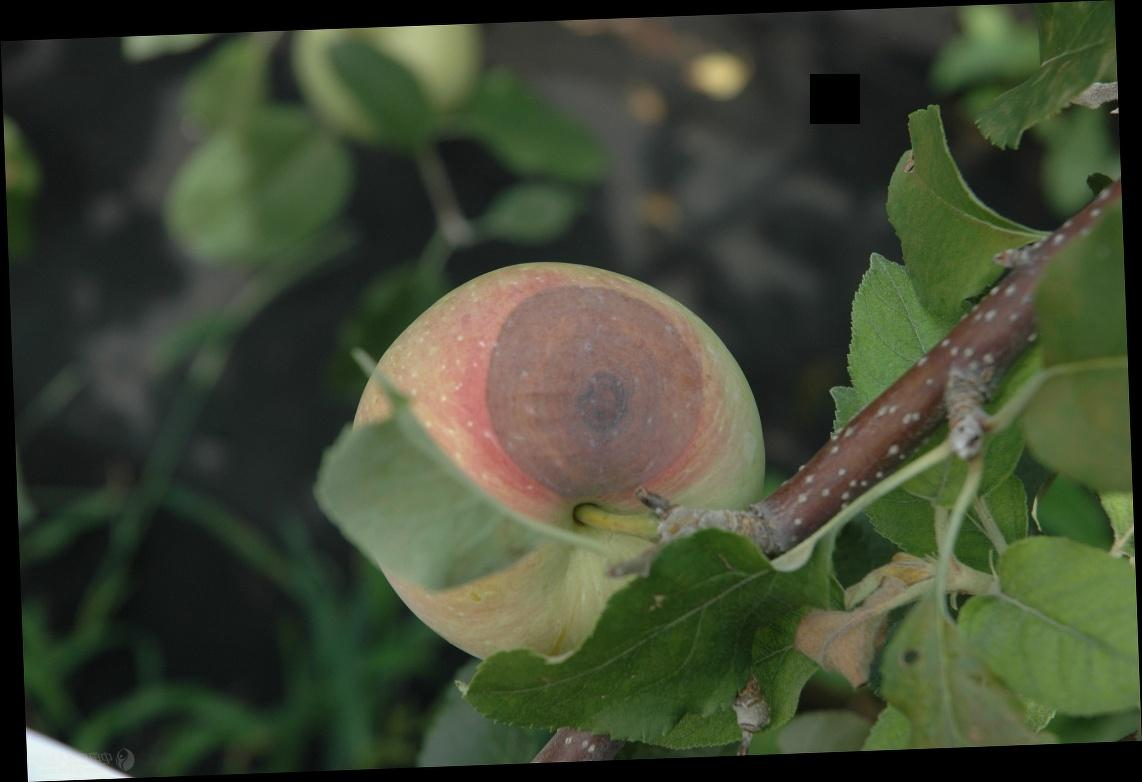rotten apple: (338, 246, 774, 661)
